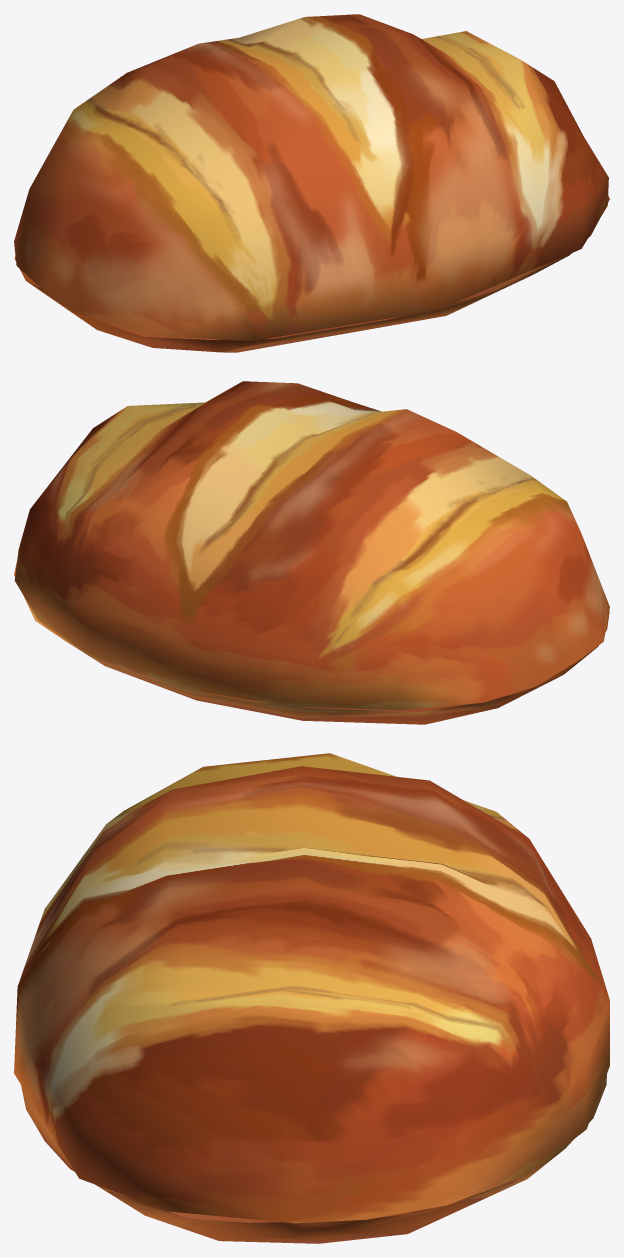
Rendered from DogBread.fbx.
3 views of the same model, one above another, from view 1: azimuth 30°, elevation 25°; view 2: azimuth 150°, elevation 25°; view 3: azimuth 270°, elevation 25° (orthographic). The views are drawn at different scales.
Parts seen in each view (by area): view 1: DogBread; view 2: DogBread; view 3: DogBread.
Boxes of the visible parts, box(x1,y1,x2,y2) form: DogBread: box(14, 14, 609, 352); DogBread: box(14, 381, 609, 724); DogBread: box(14, 753, 609, 1243).
Bounding box in the file's own units: 196 × 84.58 × 142.
